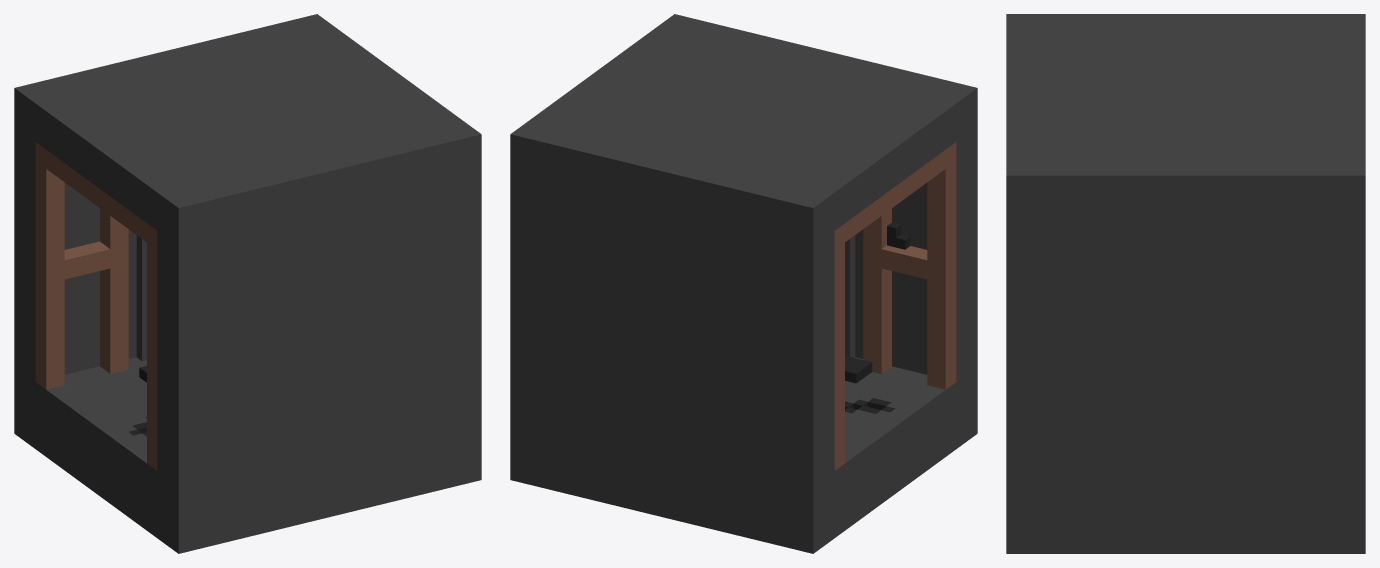
Rendered from Mine-3-Mine Dead End.obj.
3 renders of one model, left to right at view 1: azimuth 30°, elevation 25°; view 2: azimuth 150°, elevation 25°; view 3: azimuth 270°, elevation 25°, orthographic. The views are drawn at different scales.
Visible parts, largest first — view 1: Mine Dead End; view 2: Mine Dead End; view 3: Mine Dead End.
Boxes of the visible parts, <box> form: Mine Dead End: <box>14,14,481,553</box>; Mine Dead End: <box>510,14,977,553</box>; Mine Dead End: <box>1006,14,1365,553</box>.
Size of the model in its own units: 3.3 by 3.6 by 3.1.
1 material, 1 textured.
